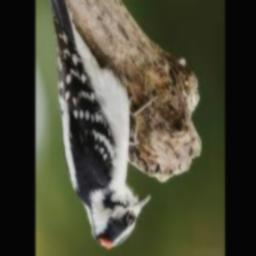Woodpecker: (40, 0, 159, 250)
